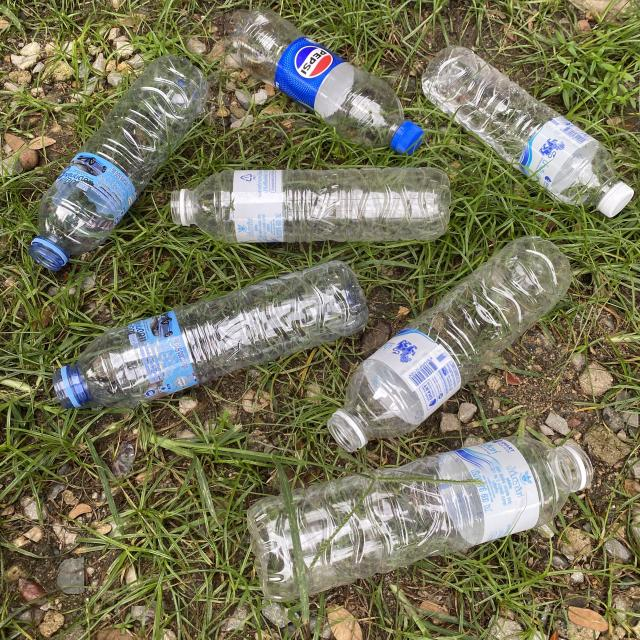plastik: (248, 436, 592, 601), (328, 236, 572, 451), (52, 261, 369, 409), (30, 55, 208, 270), (422, 46, 632, 216), (225, 8, 424, 154), (171, 168, 451, 242)
